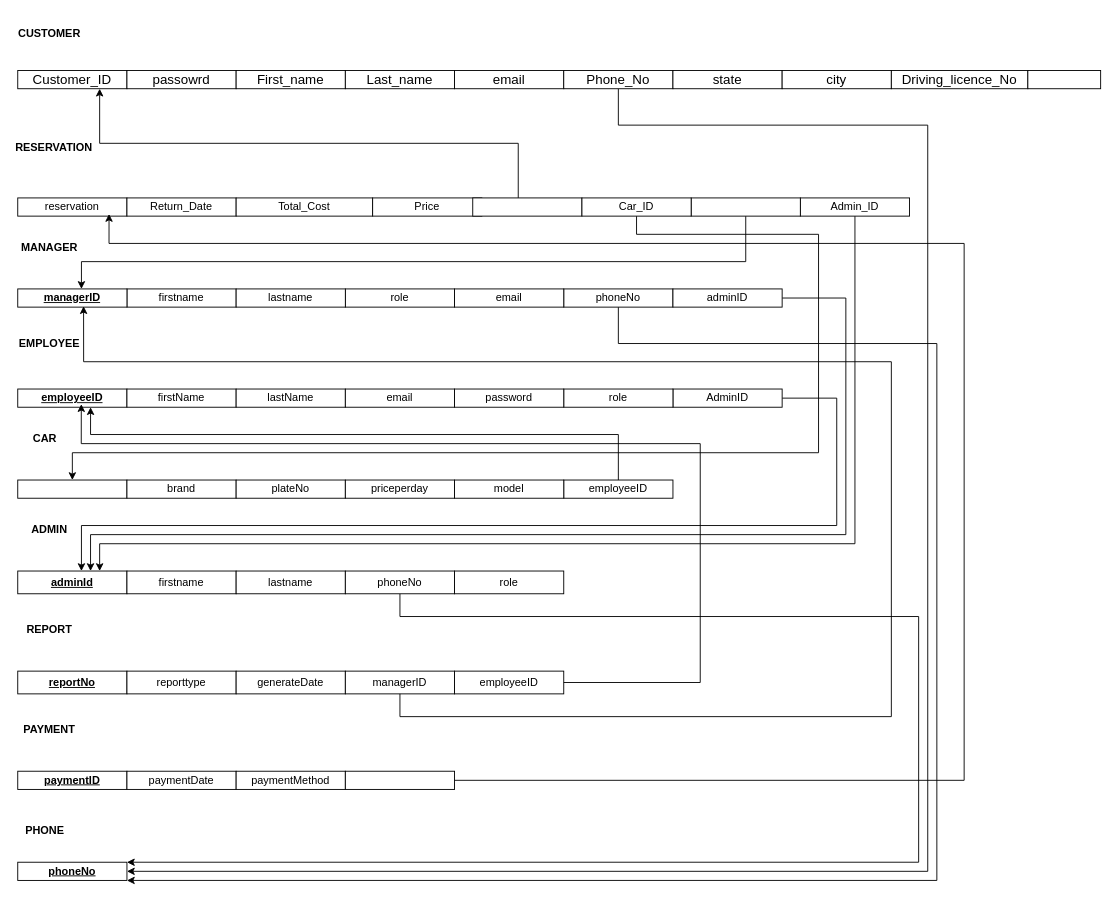
The diagram is 1117 pixels wide and 904 high, and some of its shapes have lost their labels. Each missing label, with the centre of its shape:
carID: [72,488]
Customer_ID: [527,206]
date_of_birth: [1064,79]
Manager_ID: [745,206]
reservationID: [399,779]
